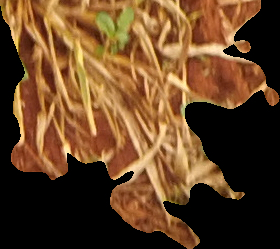soil: (2, 2, 277, 244)
